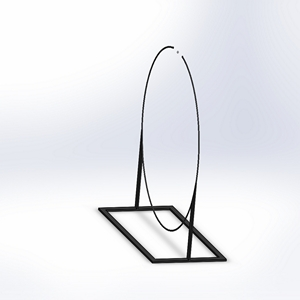circle: (96, 41, 228, 264)
